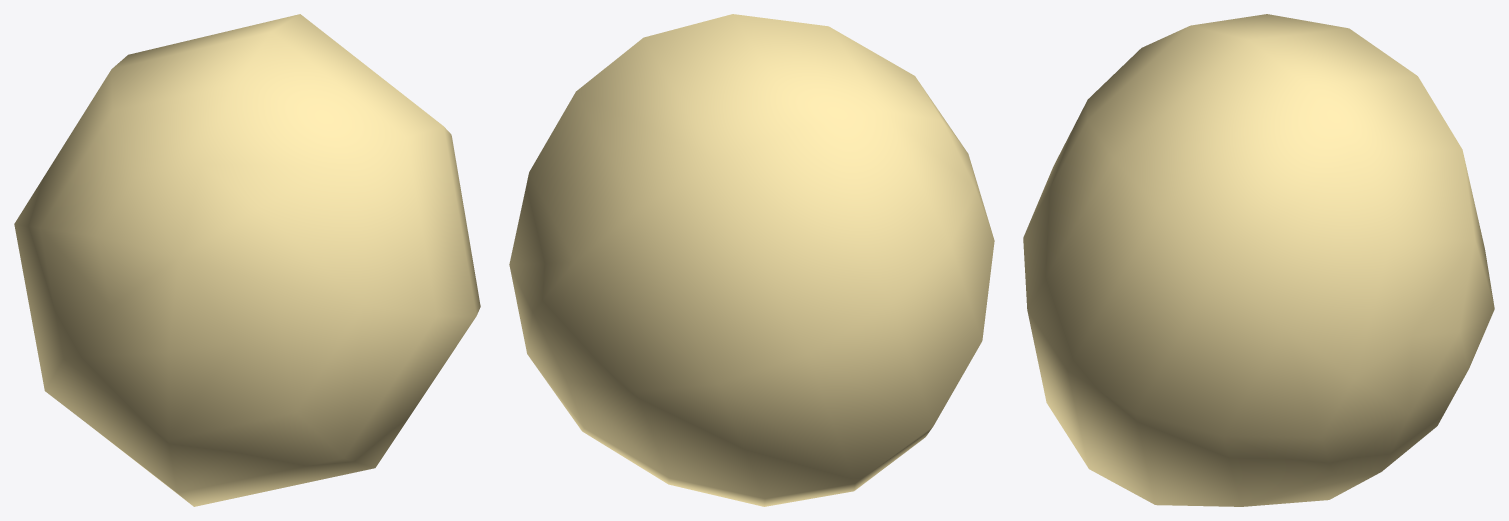
File: golgi_vesicle.fbx
3 renders of one model, left to right at view 1: azimuth 30°, elevation 25°; view 2: azimuth 150°, elevation 25°; view 3: azimuth 270°, elevation 25°, orthographic. The views are drawn at different scales.
Parts seen in each view (by area): view 1: Golgi_Visicle_01; view 2: Golgi_Visicle_01; view 3: Golgi_Visicle_01.
Boxes of the visible parts, x1,y1,x2,y2 form: Golgi_Visicle_01: [14, 14, 480, 506]; Golgi_Visicle_01: [509, 14, 994, 506]; Golgi_Visicle_01: [1023, 14, 1494, 506].
Size of the model in its own units: 69.51 by 74.66 by 67.13.
